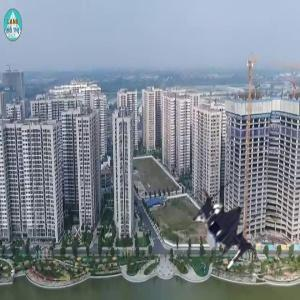drone: (174, 179, 275, 280)
